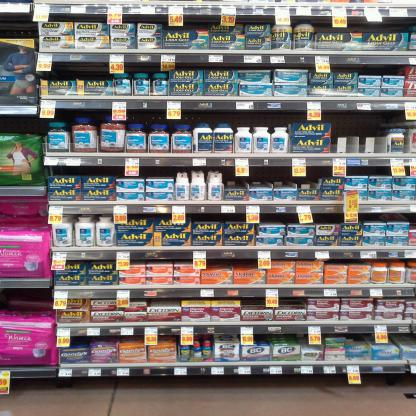Void: (334, 112, 386, 153), (54, 63, 102, 79), (255, 168, 287, 187), (3, 291, 46, 303), (212, 260, 253, 270), (306, 168, 317, 186), (247, 299, 264, 308), (284, 299, 301, 307), (150, 299, 171, 305)
